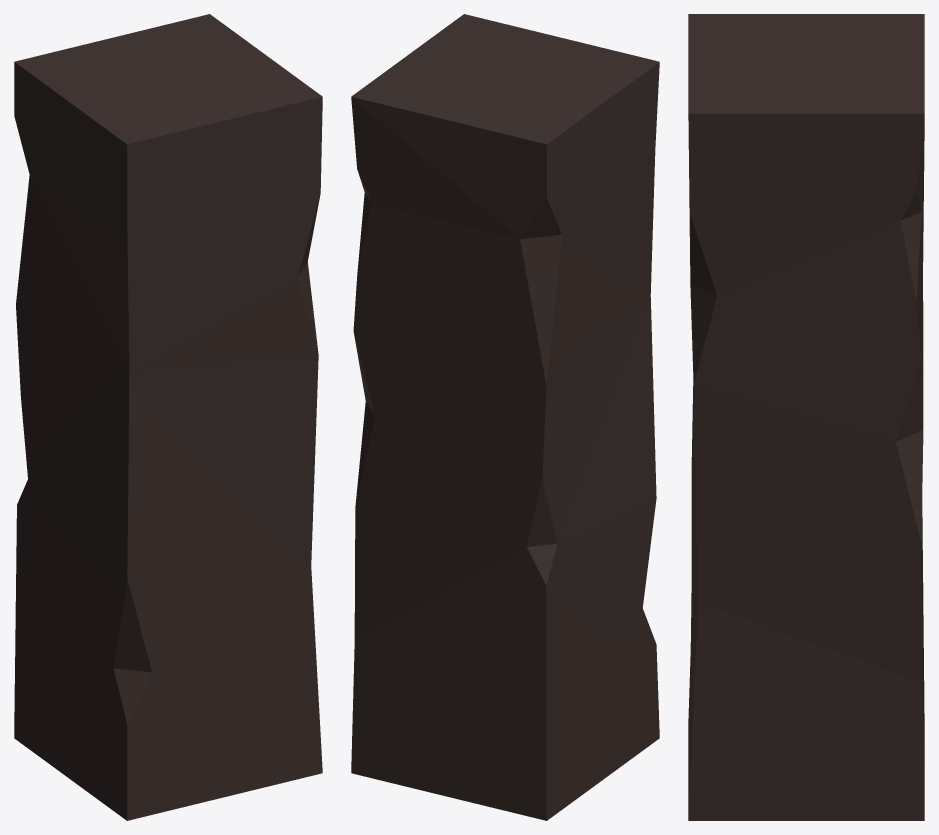
The model's file is samurai_SM_Bld_Wall_Pillar_Half_01.gltf.
The picture shows the model from 3 angles, left to right: view 1: azimuth 30°, elevation 25°; view 2: azimuth 150°, elevation 25°; view 3: azimuth 270°, elevation 25°; orthographic projection. The views are drawn at different scales.
Visible parts, largest first — view 1: SM_Bld_Wall_Pillar_Half_01; view 2: SM_Bld_Wall_Pillar_Half_01; view 3: SM_Bld_Wall_Pillar_Half_01.
Boxes of the visible parts, x1,y1,x2,y2 form: SM_Bld_Wall_Pillar_Half_01: [14, 14, 322, 820]; SM_Bld_Wall_Pillar_Half_01: [351, 14, 659, 820]; SM_Bld_Wall_Pillar_Half_01: [688, 14, 924, 820].
Bounding box in the file's own units: 0.454 × 1.51 × 0.454.
1 material, 1 textured.
